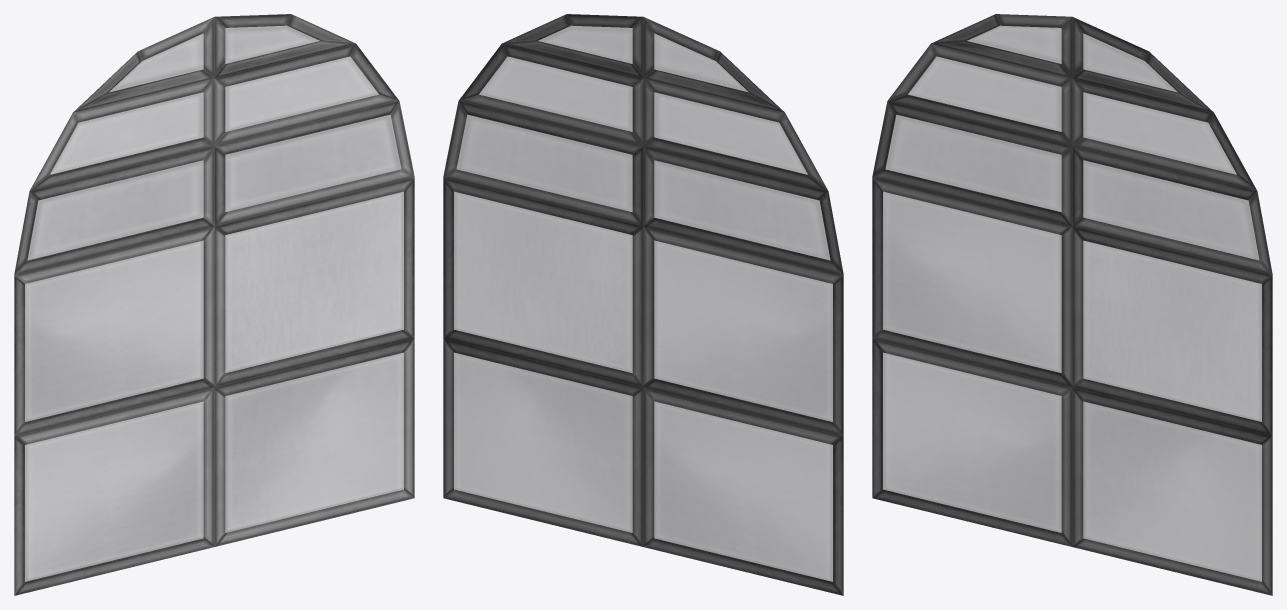
The model's file is SM_SYD_Window02.fbx.
3 renders of one model, left to right at view 1: azimuth 30°, elevation 25°; view 2: azimuth 150°, elevation 25°; view 3: azimuth 330°, elevation 25°, orthographic.
Parts seen in each view (by area): view 1: SM_SYD_Window02; view 2: SM_SYD_Window02; view 3: SM_SYD_Window02.
Boxes of the visible parts, bbox=[...] form: SM_SYD_Window02: bbox=[14, 14, 414, 595]; SM_SYD_Window02: bbox=[443, 14, 843, 595]; SM_SYD_Window02: bbox=[872, 14, 1272, 595].
Bounding box in the file's own units: 225 × 285 × 2.39e-05.
